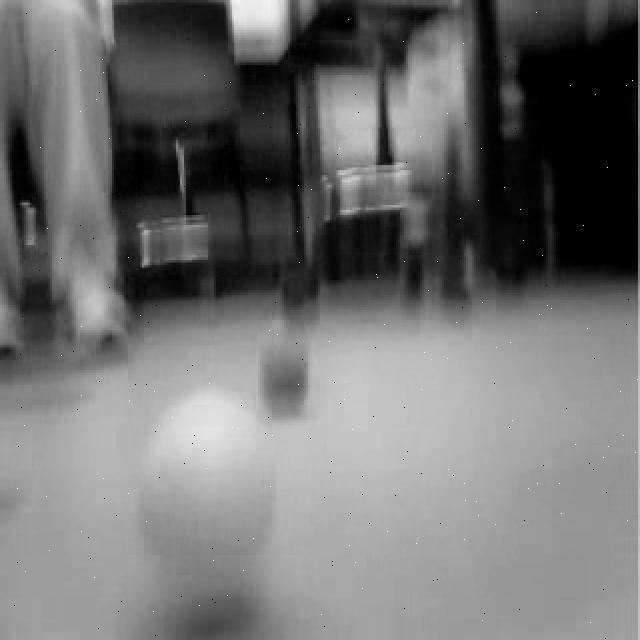ping-pong-ball: (124, 383, 282, 602), (256, 320, 316, 404)
